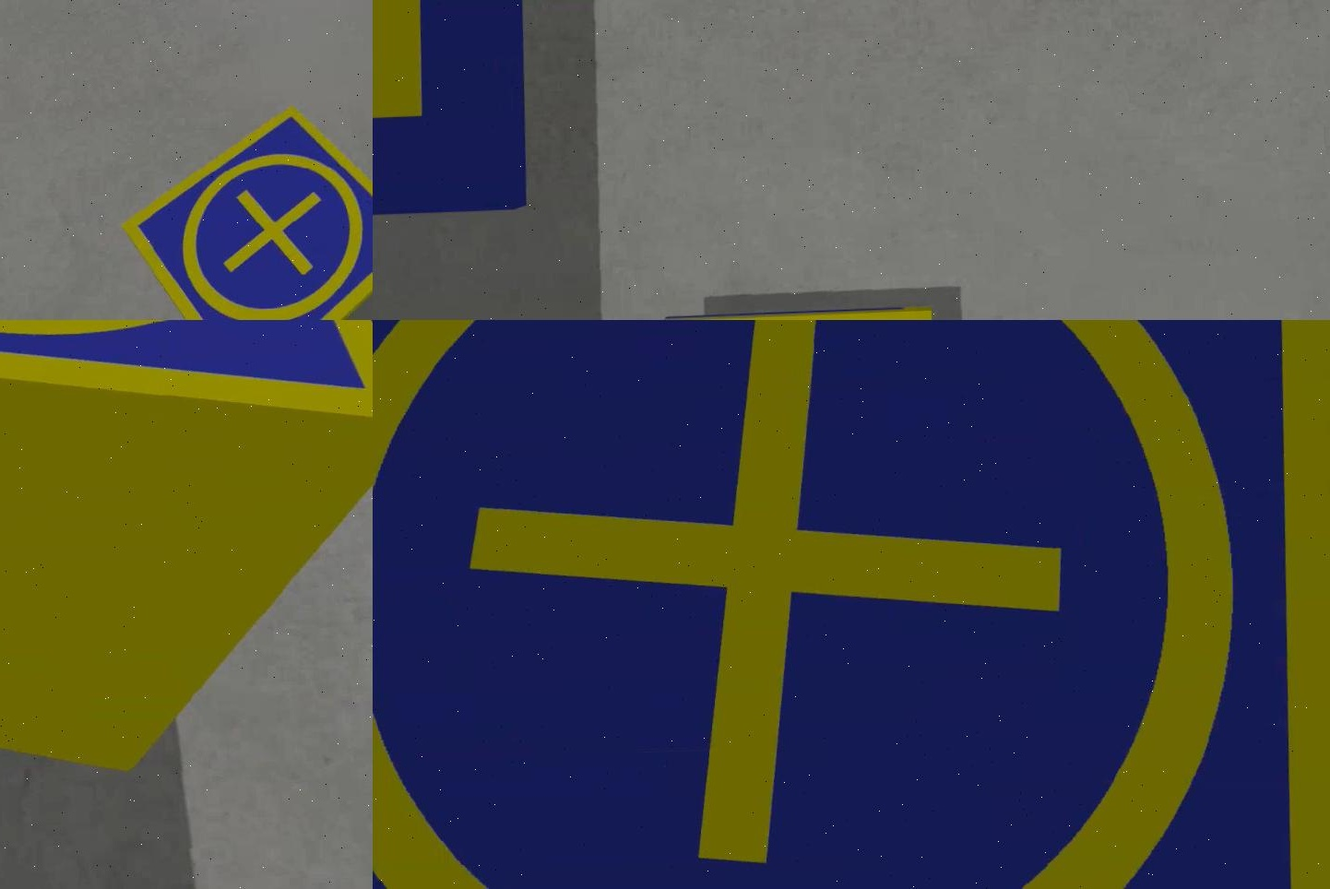large_base: (371, 321, 1328, 889), (371, 1, 534, 213)
small_base: (118, 101, 371, 321), (0, 321, 371, 454)
